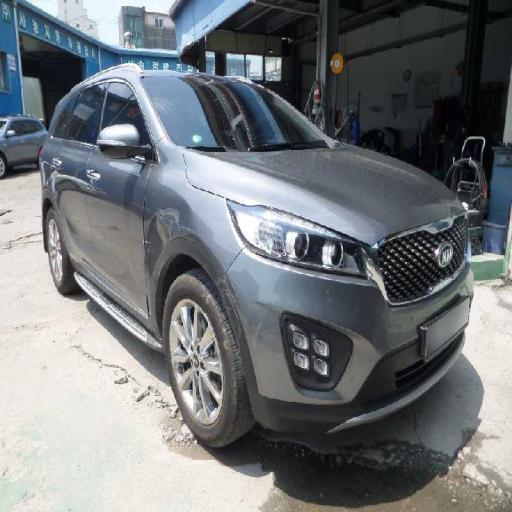broken: (214, 215, 316, 416)
scratch: (134, 184, 208, 297)
